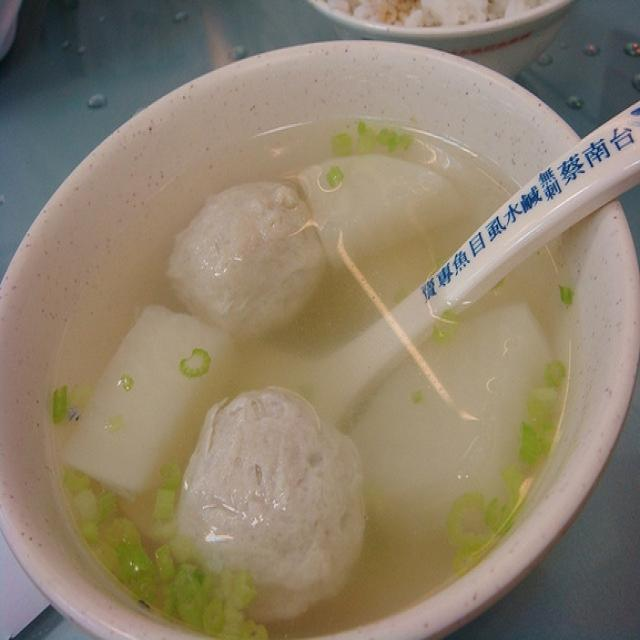熟制海鲜: (15, 40, 619, 634)
